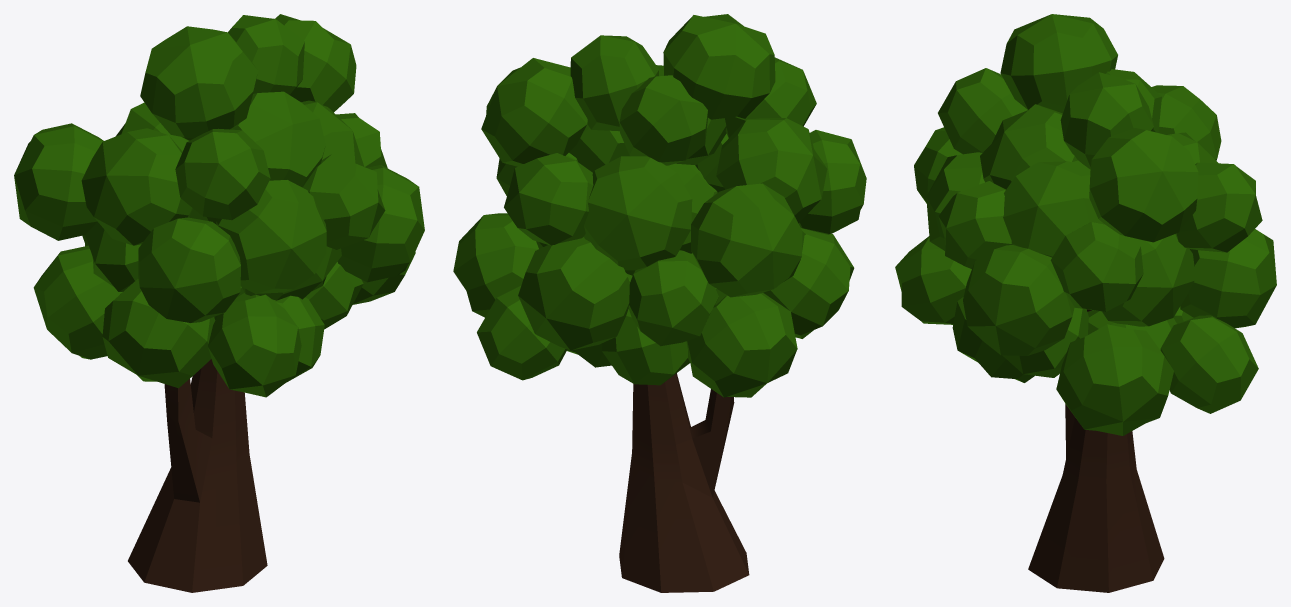
File: LowPolyTree 1.fbx
3 renders of one model, left to right at view 1: azimuth 30°, elevation 25°; view 2: azimuth 150°, elevation 25°; view 3: azimuth 270°, elevation 25°, orthographic.
Parts seen in each view (by area): view 1: Tree2; view 2: Tree2; view 3: Tree2.
Boxes of the visible parts, x1,y1,x2,y2 form: Tree2: (14, 14, 424, 592); Tree2: (453, 14, 866, 592); Tree2: (895, 14, 1276, 592).
Size of the model in its own units: 3.62 by 5.17 by 3.33.
